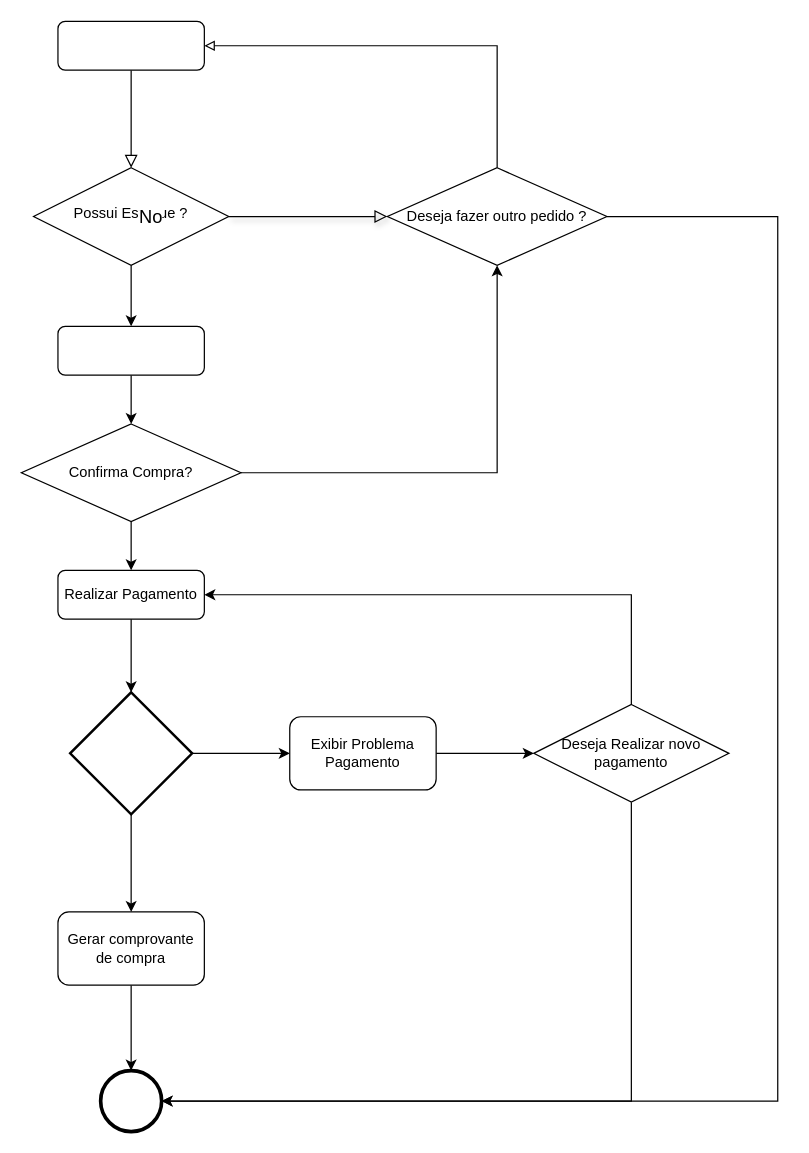
This 809x1153 diagram has some shape labels left out. Each missing label, with the centre of its shape:
"Gerar Nota pra compra" belongs at pixel 130 350.
"Pagamento Correto ?" belongs at pixel 130 753.
"Receber o pedido" belongs at pixel 130 45.
